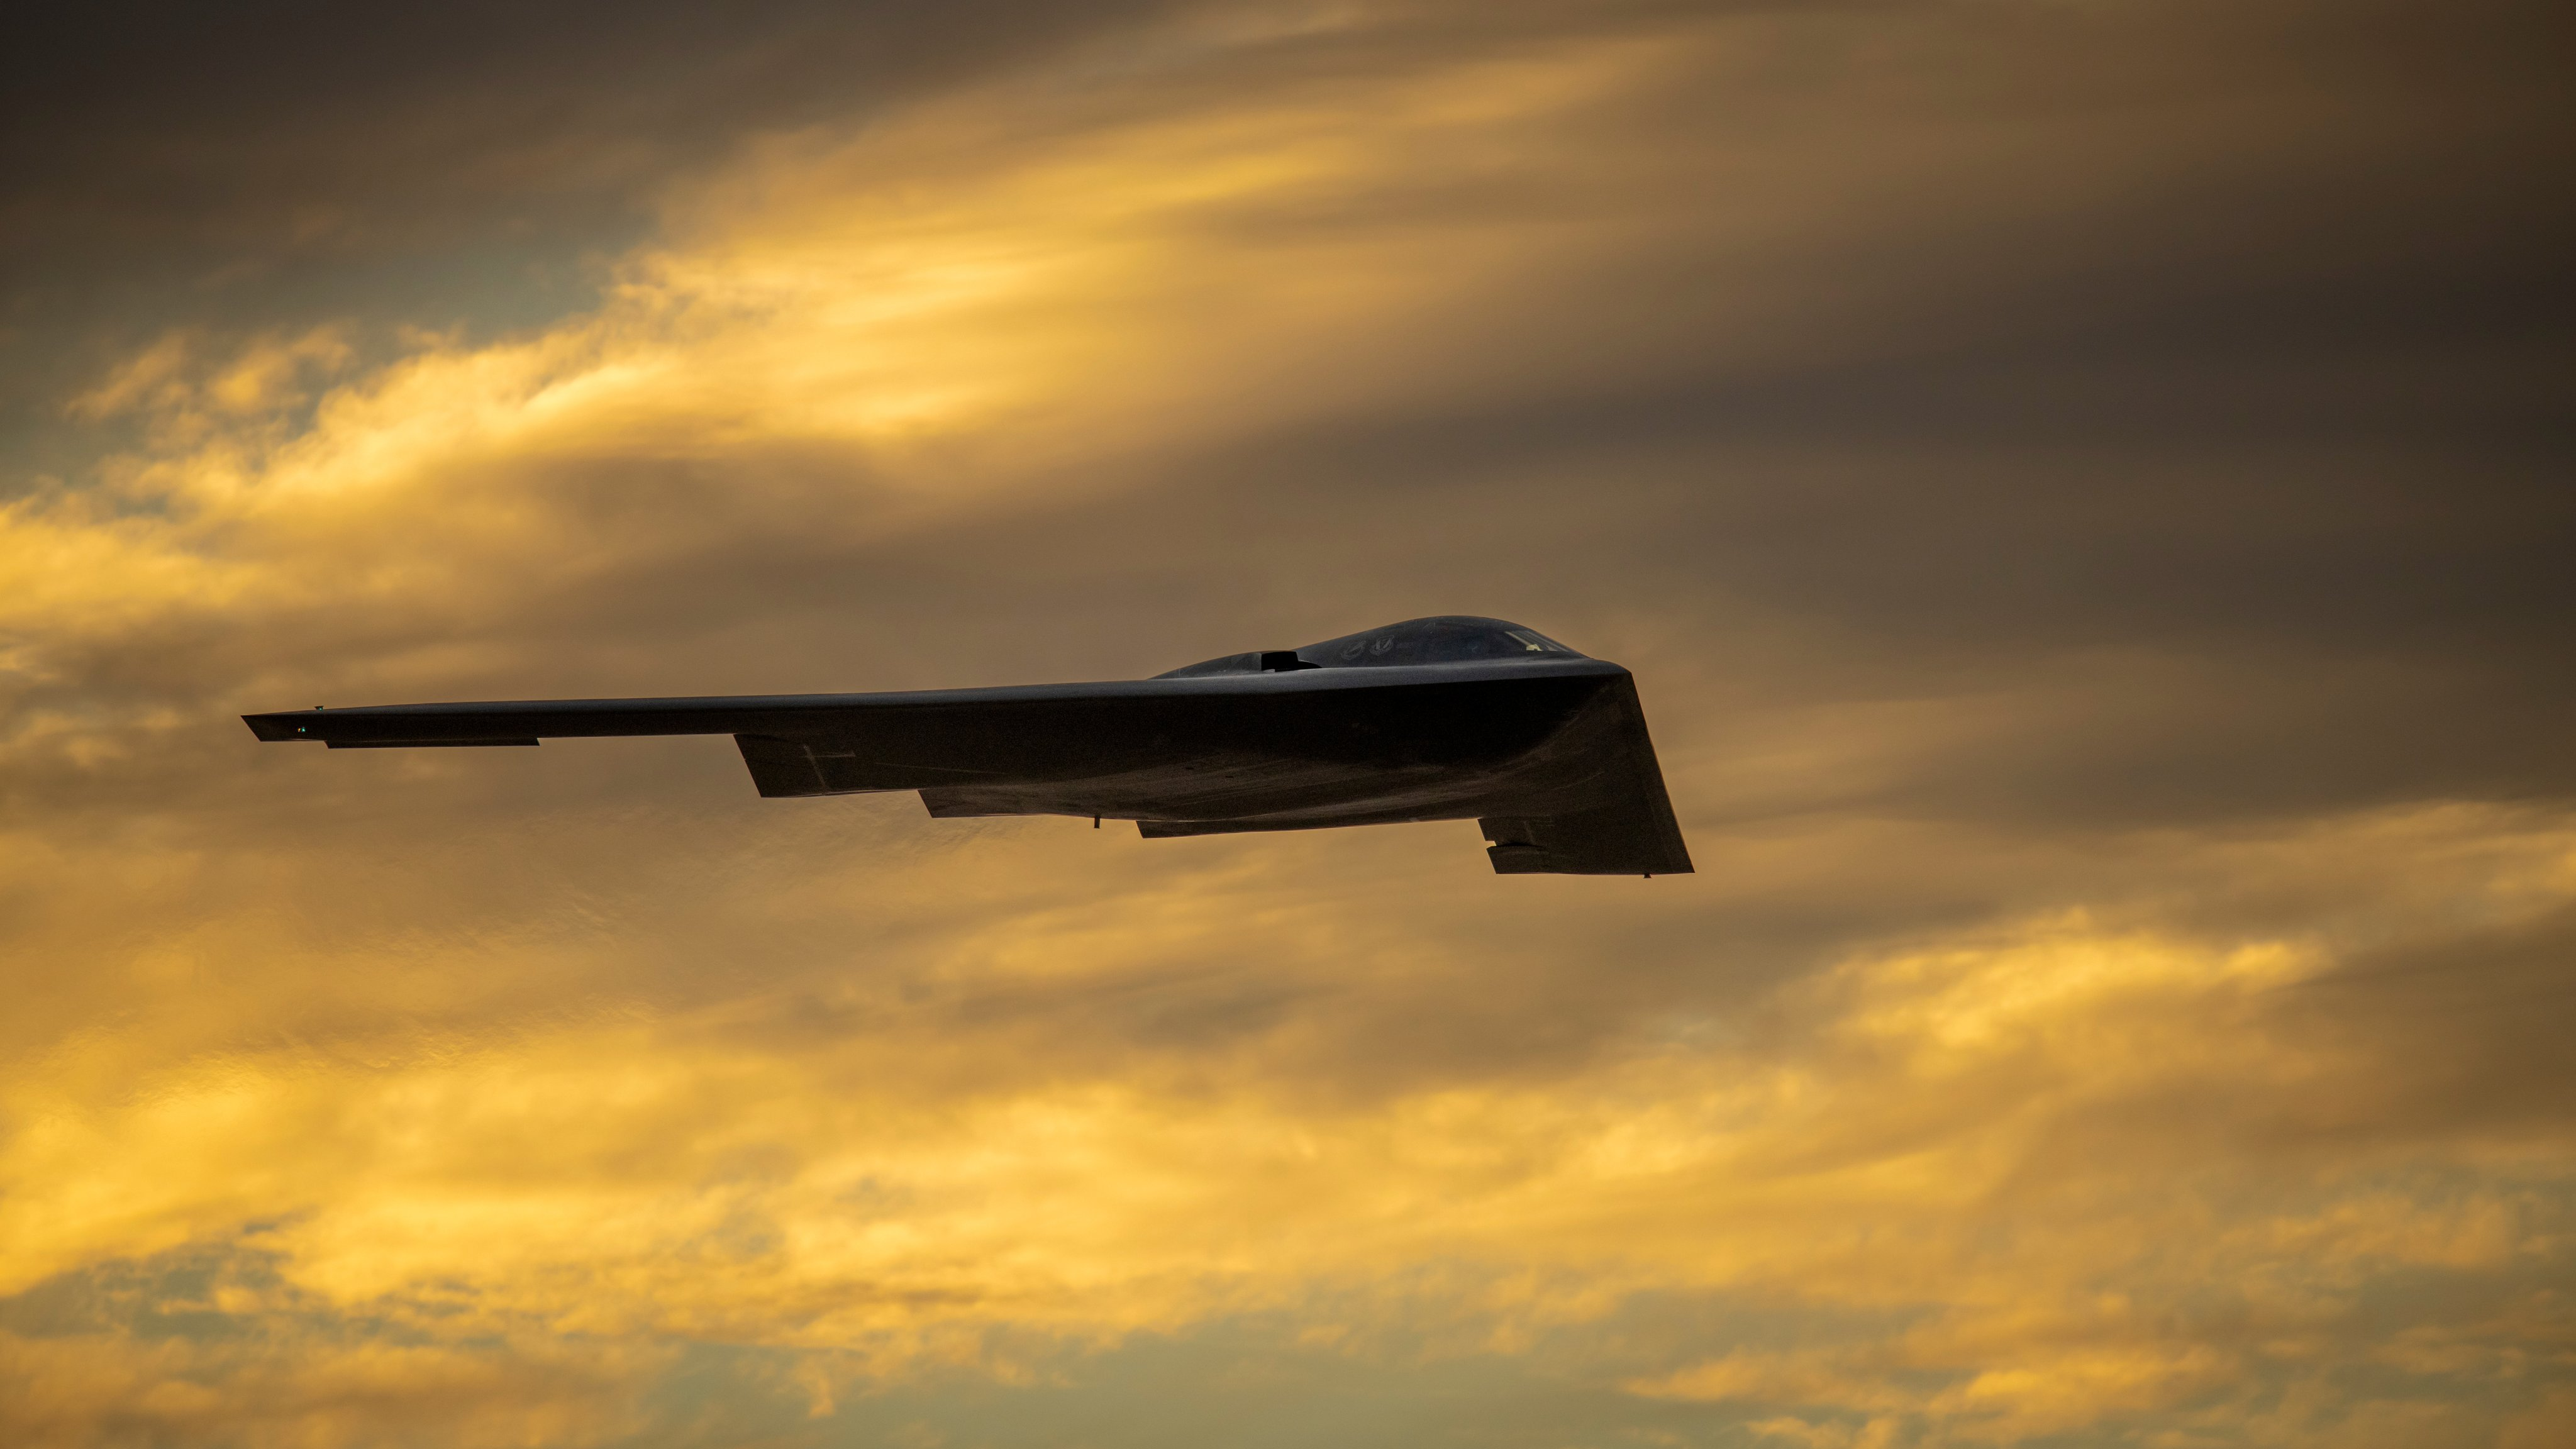B2: (239, 614, 1695, 878)
